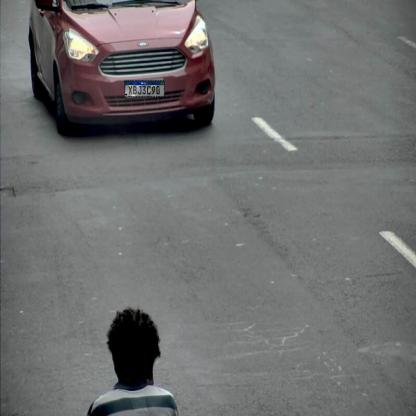PlacaM: (124, 80, 165, 97)
